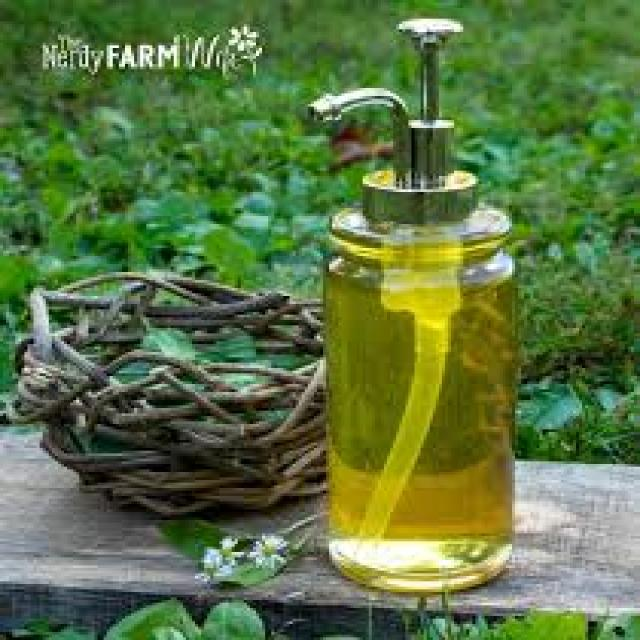liquid soap: (301, 13, 534, 604)
